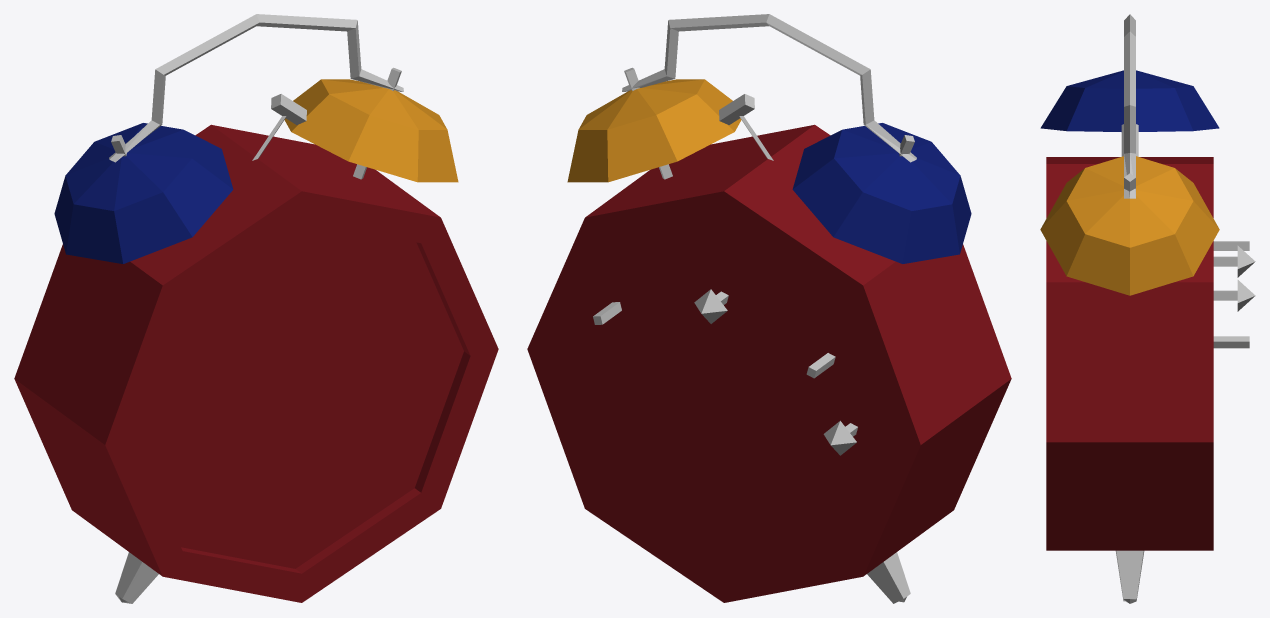
File: alarmclock.glb
3 renders of one model, left to right at view 1: azimuth 30°, elevation 25°; view 2: azimuth 150°, elevation 25°; view 3: azimuth 270°, elevation 25°, orthographic. The views are drawn at different scales.
Size of the model in its own units: 350 by 473 by 180.
